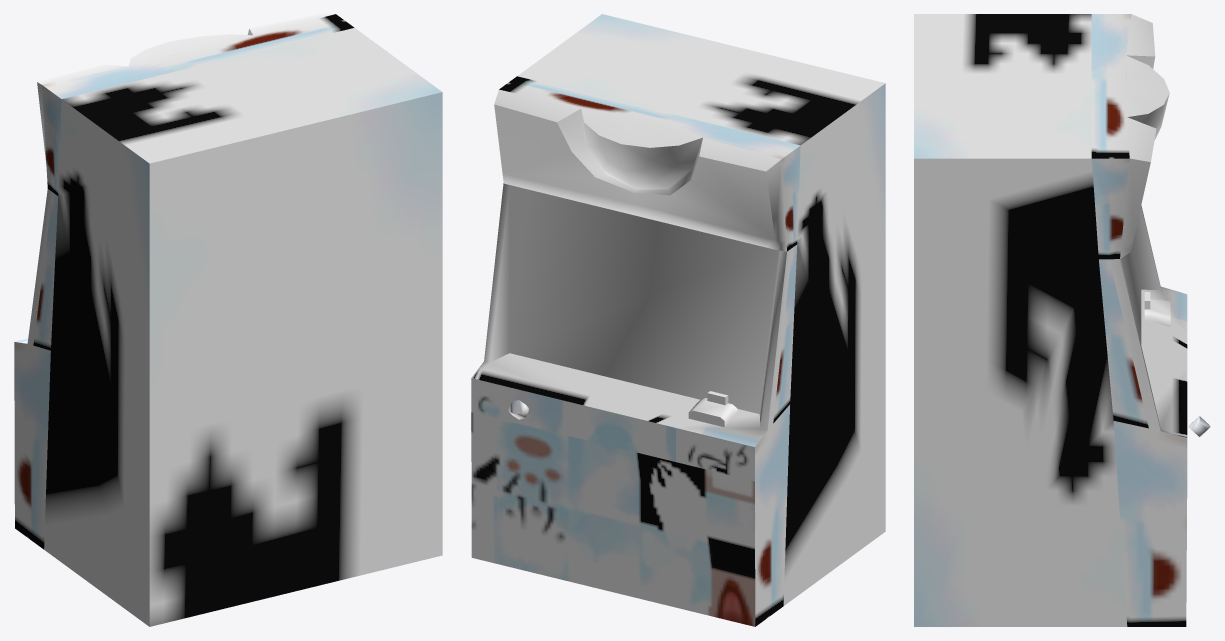
Rendered from static.ico.obj.
The picture shows the model from 3 angles, left to right: view 1: azimuth 30°, elevation 25°; view 2: azimuth 150°, elevation 25°; view 3: azimuth 270°, elevation 25°; orthographic projection. The views are drawn at different scales.
Size of the model in its own units: 3.14 by 4.75 by 2.73.
